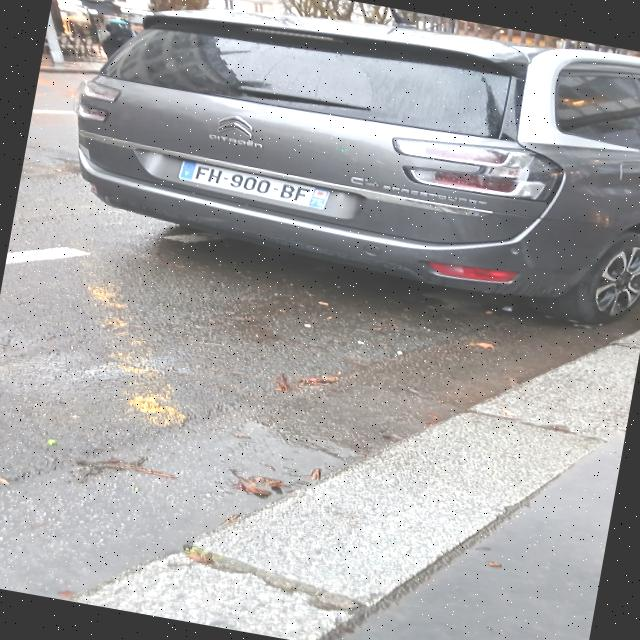EU: (171, 157, 327, 210)
France: (175, 158, 198, 182)
